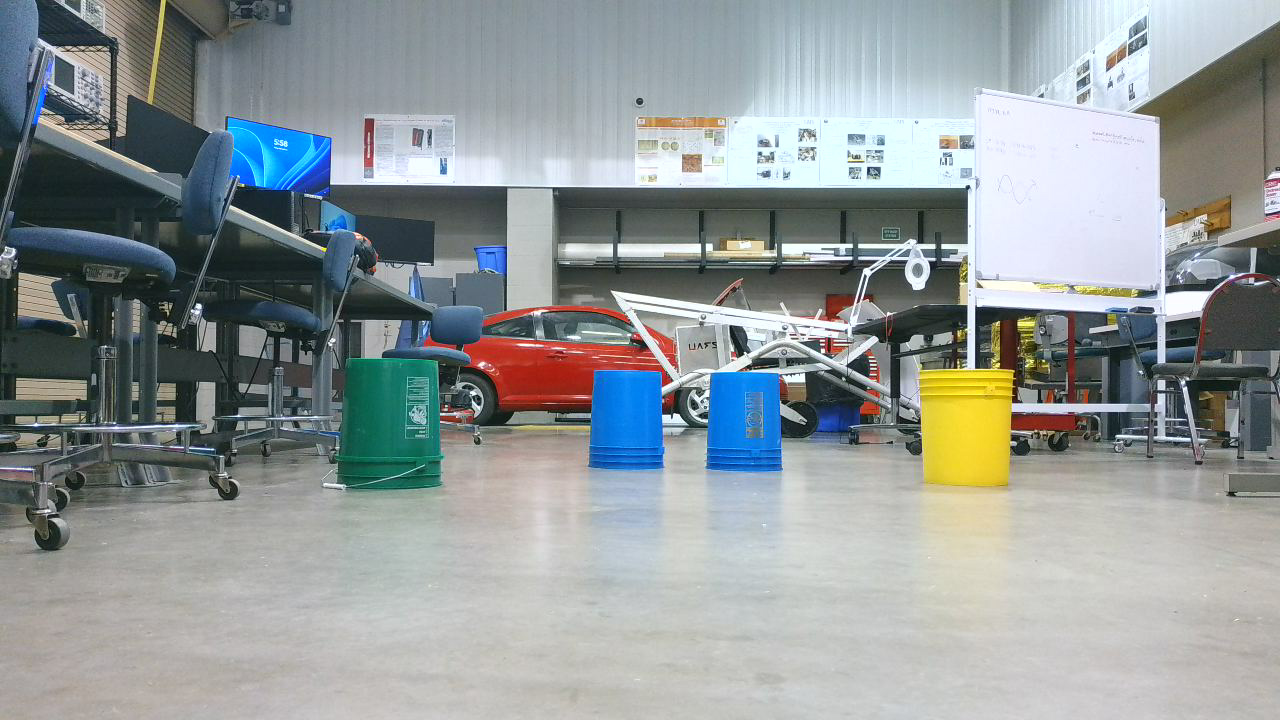blue_bucket: (588, 372, 676, 478), (708, 372, 796, 478)
green_bucket_barrier: (327, 358, 451, 499)
yellow_bucket: (920, 373, 1037, 498)
